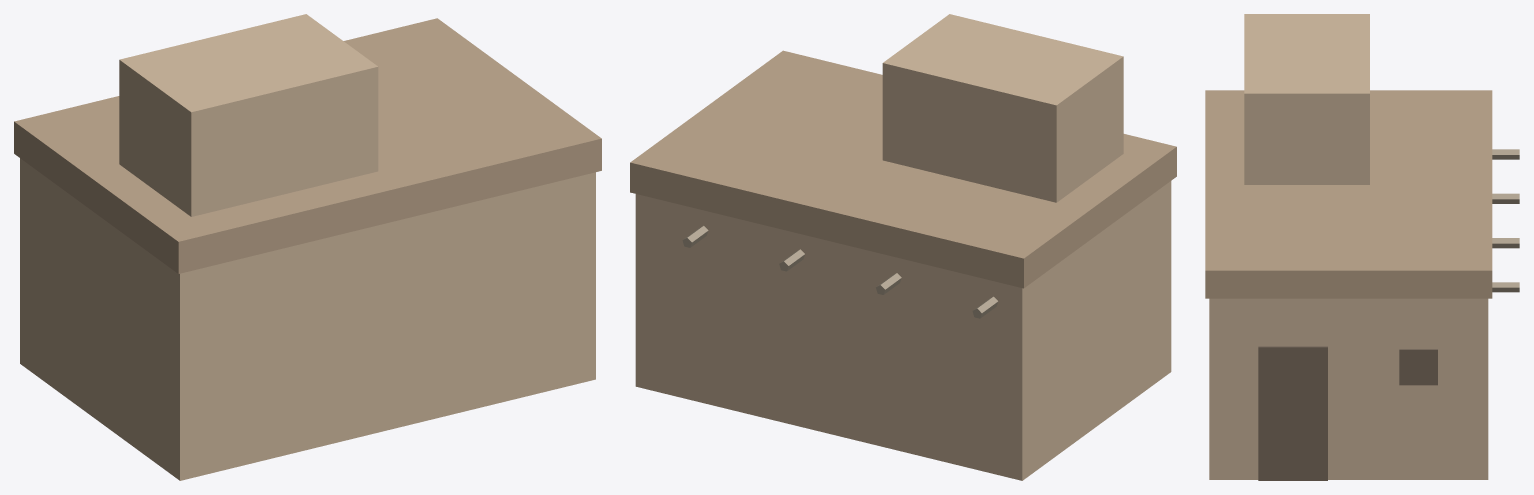
Rendered from MudHouseB.glb.
3 views of the same model, side by side, from view 1: azimuth 30°, elevation 25°; view 2: azimuth 150°, elevation 25°; view 3: azimuth 270°, elevation 25° (orthographic). The views are drawn at different scales.
Parts seen in each view (by area): view 1: Mud walls.001, Parapet.001, Upper room.001; view 2: Mud walls.001, Parapet.001, Upper room.001; view 3: Parapet.001, Mud walls.001, Upper room.001, Doorway.001, Window.001.
Boxes of the visible parts, box(x1,y1,x2,y2) form: Mud walls.001: box(20, 158, 595, 480); Parapet.001: box(14, 18, 601, 273); Upper room.001: box(119, 14, 378, 216); Mud walls.001: box(635, 181, 1171, 480); Parapet.001: box(630, 50, 1176, 288); Upper room.001: box(882, 14, 1123, 202); Parapet.001: box(1205, 90, 1492, 298); Mud walls.001: box(1209, 298, 1488, 479); Upper room.001: box(1244, 14, 1369, 184); Doorway.001: box(1258, 346, 1327, 480); Window.001: box(1399, 349, 1437, 385).
Bounding box in the file's own units: 5.5 × 4.3 × 4.05.
